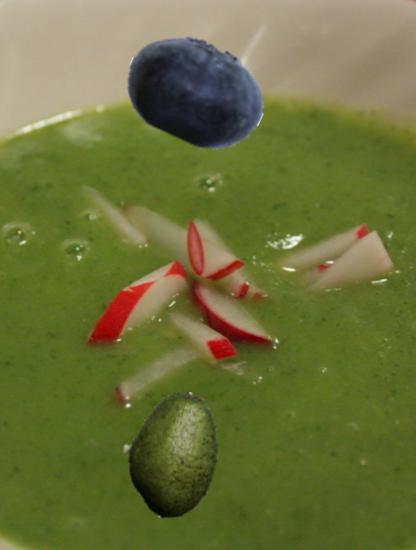Avocado: (105, 389, 235, 519)
Blueberry: (124, 20, 268, 164)
